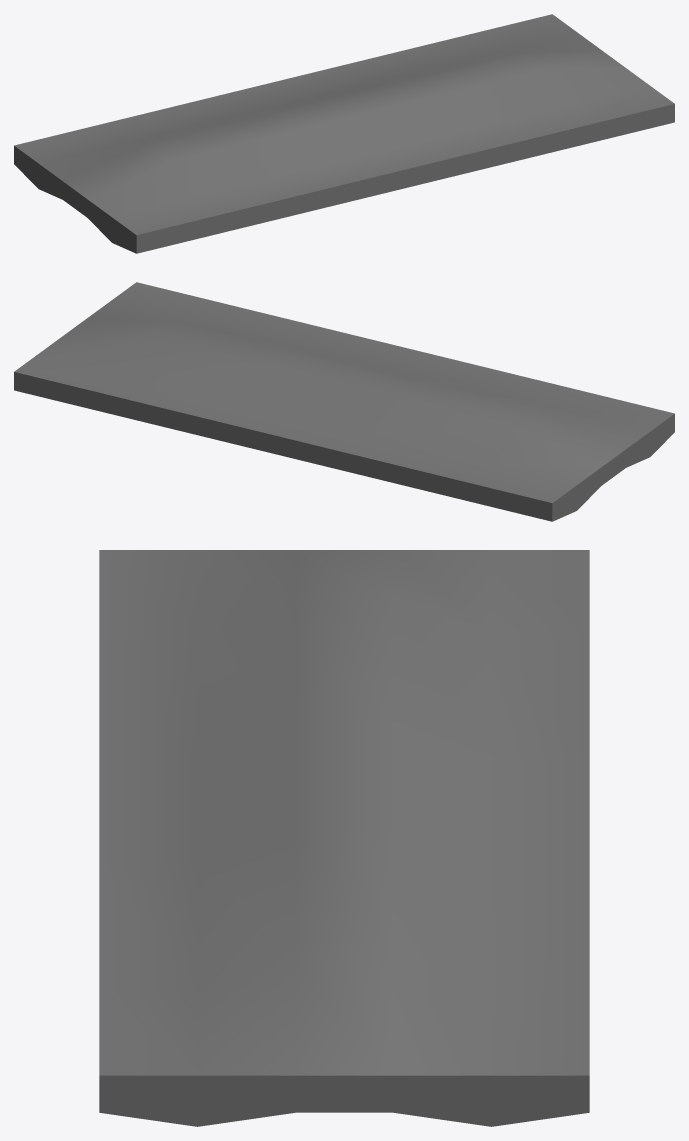
Rendered from Ceiling_lights.fbx.
3 renders of one model, top to bottom at view 1: azimuth 30°, elevation 25°; view 2: azimuth 150°, elevation 25°; view 3: azimuth 270°, elevation 25°, orthographic. The views are drawn at different scales.
Parts seen in each view (by area): view 1: Base; view 2: Base; view 3: Base.
Boxes of the visible parts, x1=… form: Base: x1=14, y1=14, x2=674, y2=253; Base: x1=14, y1=282, x2=674, y2=521; Base: x1=99, y1=550, x2=589, y2=1126.
Size of the model in its own units: 11.23 by 0.998 by 4.43.
Materials: 2 (1 with a texture image).
